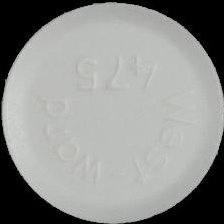12634-184: (0, 0, 224, 224)
